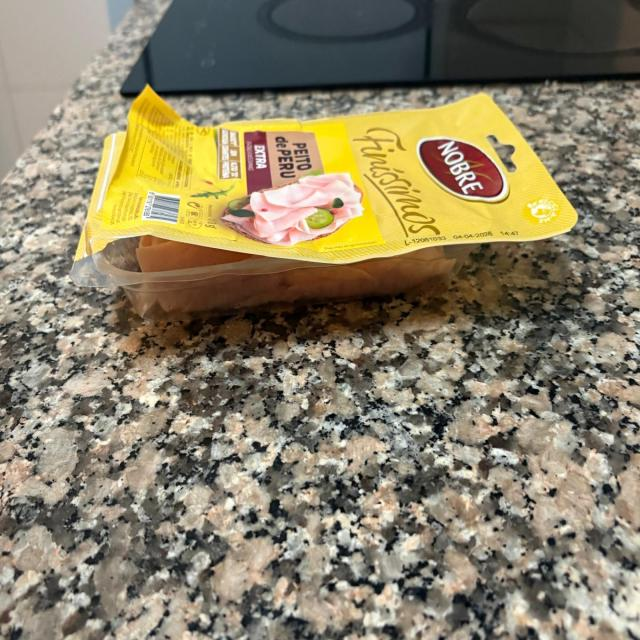damaged_package: (68, 82, 588, 323)
